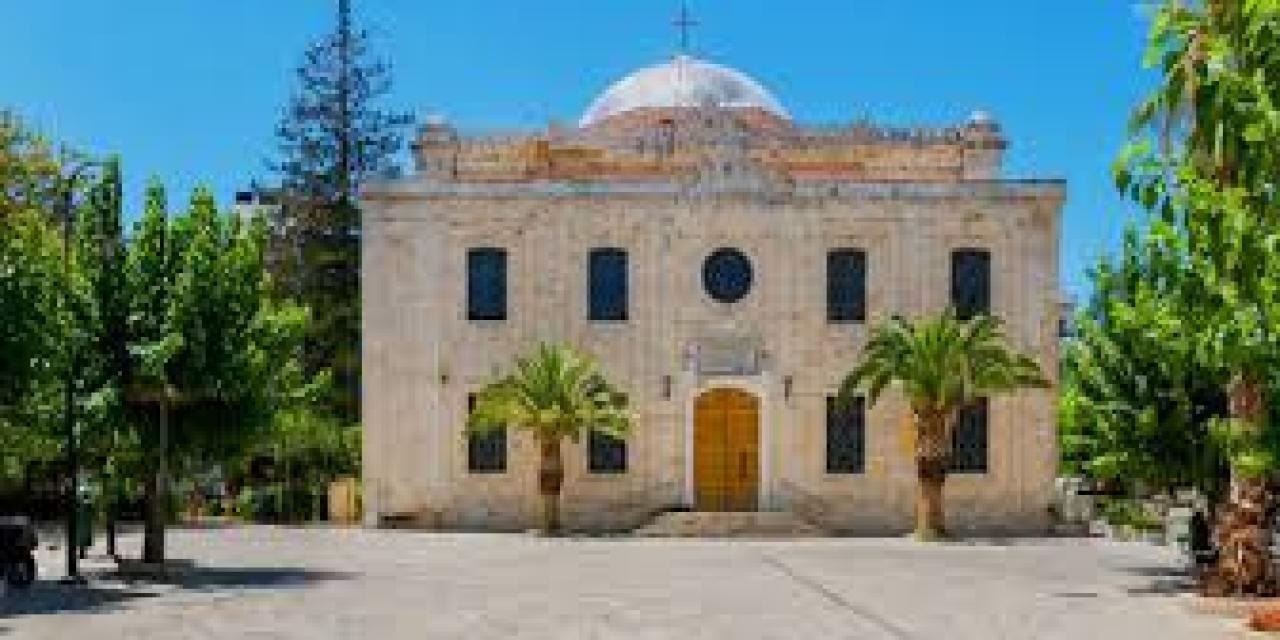Agios Titos: (360, 1, 1073, 531)
